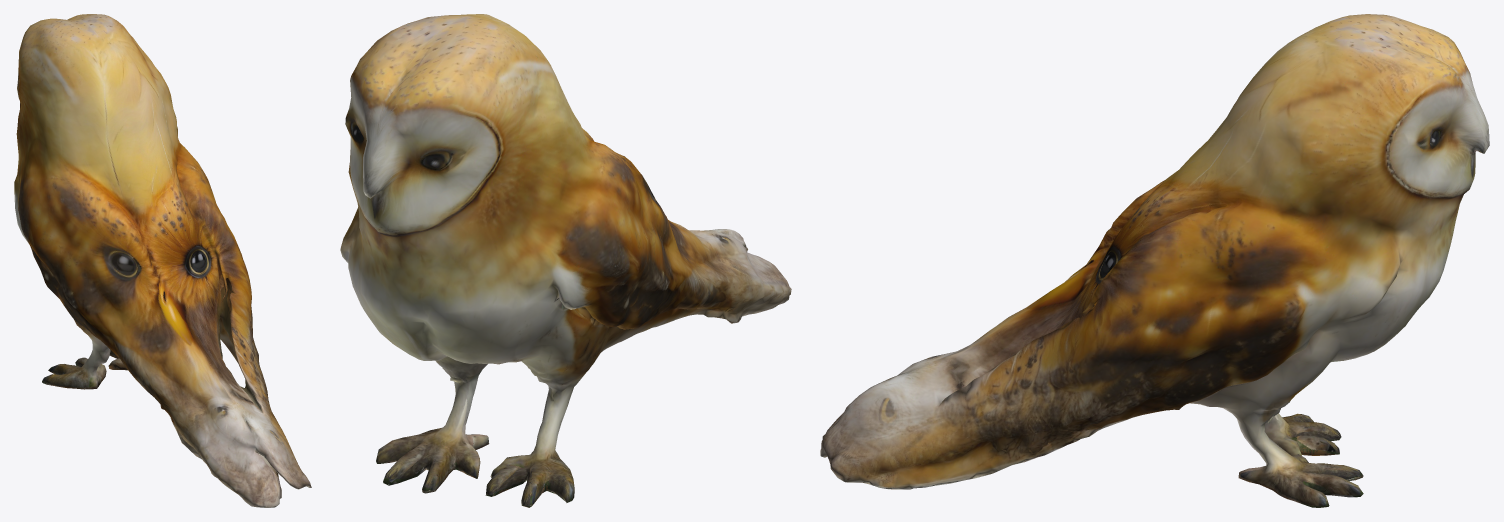
The model's file is barn-owl.mp3.glb.
3 views of the same model, side by side, from view 1: azimuth 30°, elevation 25°; view 2: azimuth 150°, elevation 25°; view 3: azimuth 270°, elevation 25° (orthographic). The views are drawn at different scales.
Bounding box in the file's own units: 0.8073 × 1.44 × 1.99.
Materials: 1 (1 with a texture image).
